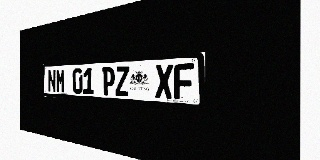0: (72, 68, 82, 94)
1: (83, 68, 94, 95)
F: (174, 63, 194, 100)
M: (56, 69, 65, 93)
N: (48, 69, 56, 92)
P: (102, 67, 115, 96)
X: (155, 64, 173, 99)
Z: (115, 66, 129, 96)
